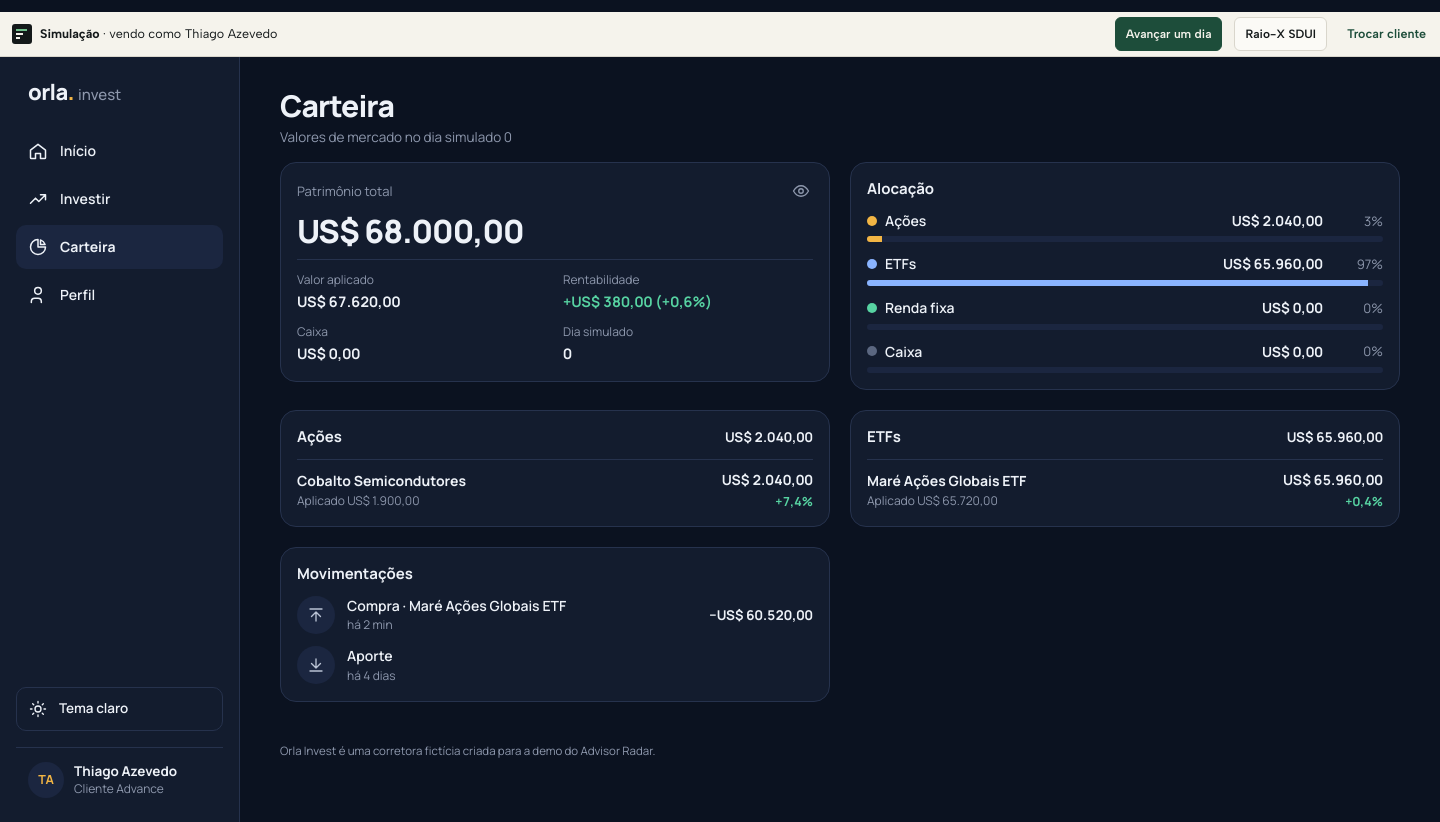
Test: Carteira route › masks the amount of a history row with the eye toggle
The image size is (1440, 822).
Expected: the text "Compra · Maré Ações Globais ETF" is shown, top-left (347, 596), bottom-right (566, 615)
Expected: the text "−US$ 60.520,00" is shown, top-left (709, 606), bottom-right (813, 624)
Click the button named "Esconder valores" at x=801, y=191, box top-left (779, 169), bottom-right (823, 213)
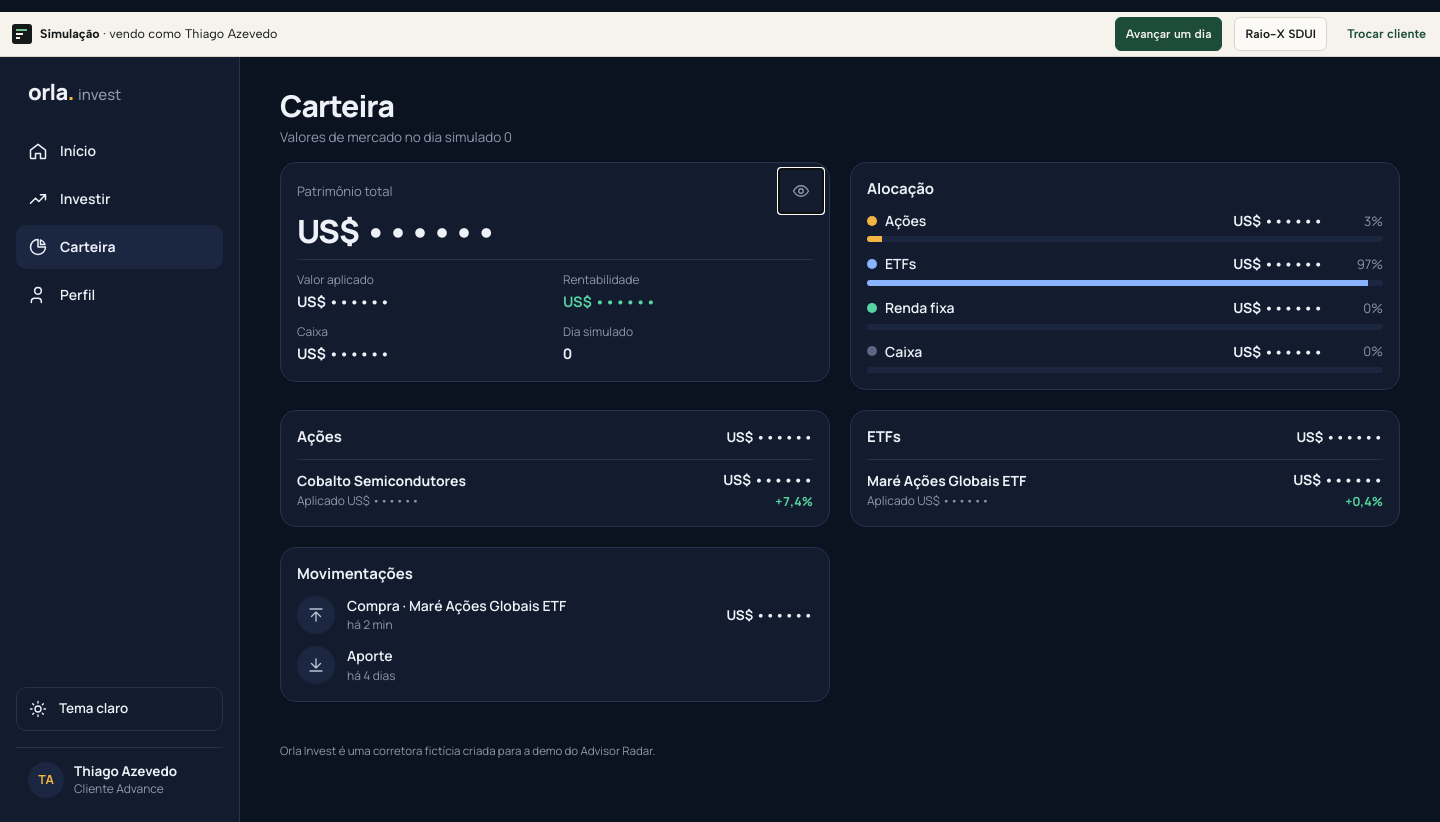
Expected: the text "−US$ 60.520,00" is gone
Expected: the text "US$ ••••••" in the row of "Compra · Maré Ações Globais ETF" is shown, top-left (726, 606), bottom-right (813, 624)
Click the button named "Mostrar valores" at x=801, y=191, box top-left (779, 169), bottom-right (823, 213)
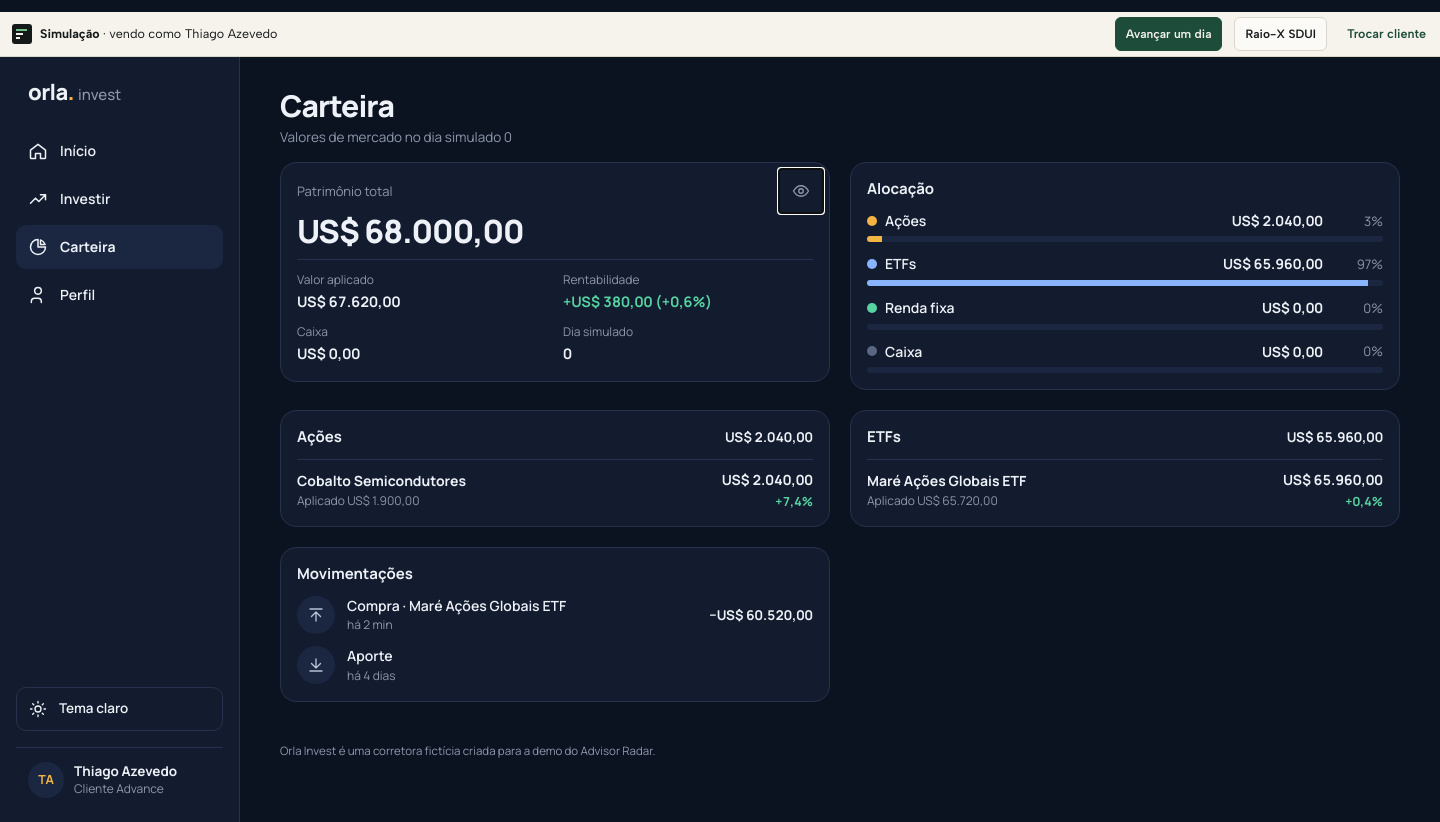
Expected: the text "−US$ 60.520,00" is shown, top-left (709, 606), bottom-right (813, 624)
